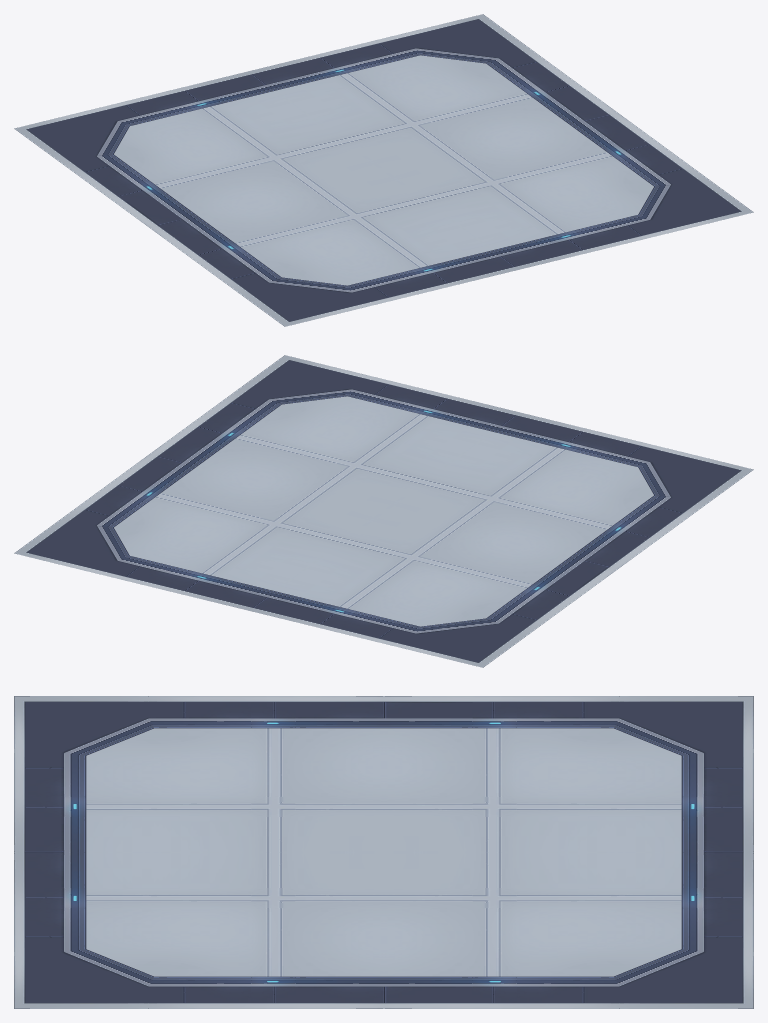
The model's file is my_carrier_01_carpet_01.glb.
3 views of the same model, one above another, from view 1: azimuth 30°, elevation 25°; view 2: azimuth 150°, elevation 25°; view 3: azimuth 270°, elevation 25° (orthographic). The views are drawn at different scales.
Parts seen in each view (by area): view 1: my_carrier_01_carpet_01; view 2: my_carrier_01_carpet_01; view 3: my_carrier_01_carpet_01.
Part boxes in pixels (x1=…): my_carrier_01_carpet_01: x1=14, y1=14, x2=753, y2=326; my_carrier_01_carpet_01: x1=14, y1=355, x2=753, y2=667; my_carrier_01_carpet_01: x1=14, y1=696, x2=753, y2=1008.
Size of the model in its own units: 0.054 by 2.73e-08 by 0.054.
Materials: 1 (1 with a texture image).
